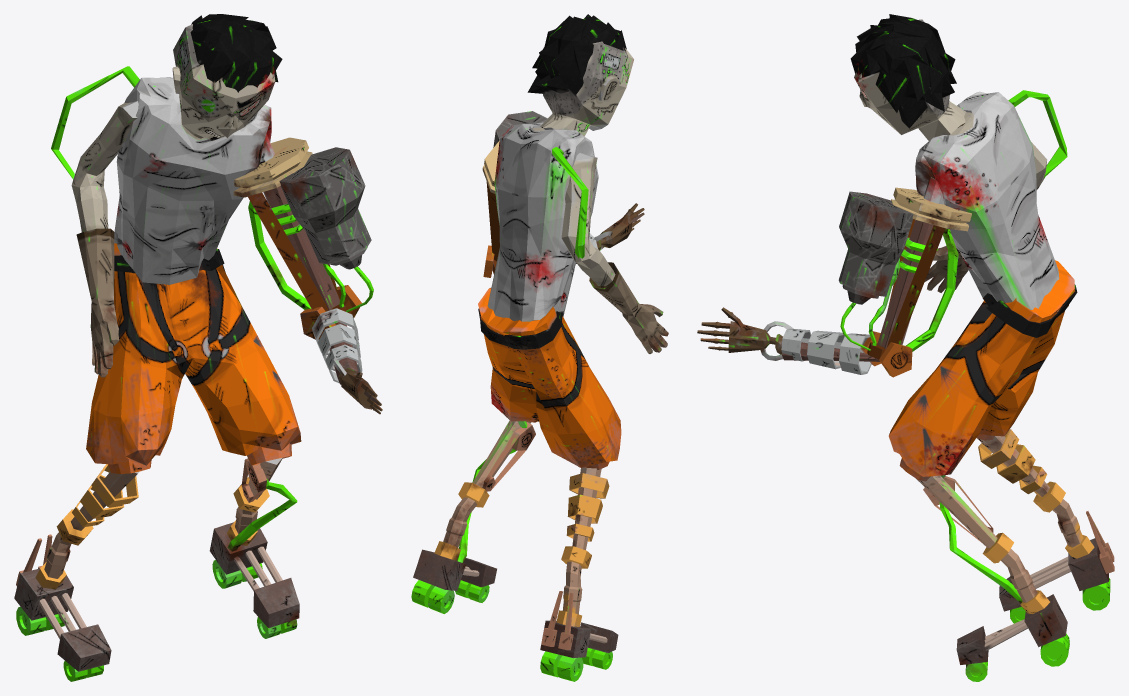
The model's file is CyborgFINALAnimation_000007.obj.
3 views of the same model, side by side, from view 1: azimuth 30°, elevation 25°; view 2: azimuth 150°, elevation 25°; view 3: azimuth 270°, elevation 25° (orthographic). The views are drawn at different scales.
Parts seen in each view (by area): view 1: CyborgMesh_Cube.002; view 2: CyborgMesh_Cube.002; view 3: CyborgMesh_Cube.002.
Boxes of the visible parts, x1,y1,x2,y2 form: CyborgMesh_Cube.002: [14, 14, 382, 681]; CyborgMesh_Cube.002: [411, 14, 668, 681]; CyborgMesh_Cube.002: [697, 14, 1114, 681].
Size of the model in its own units: 3.22 by 8.95 by 5.35.
